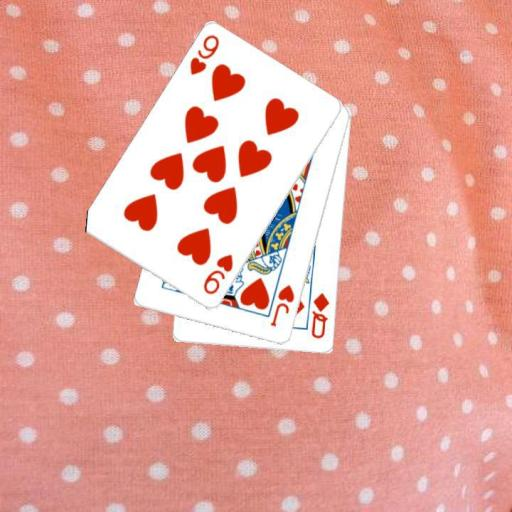9H: (200, 251, 235, 297), (186, 32, 221, 78)
JH: (268, 282, 297, 329)
QD: (308, 290, 331, 341)
